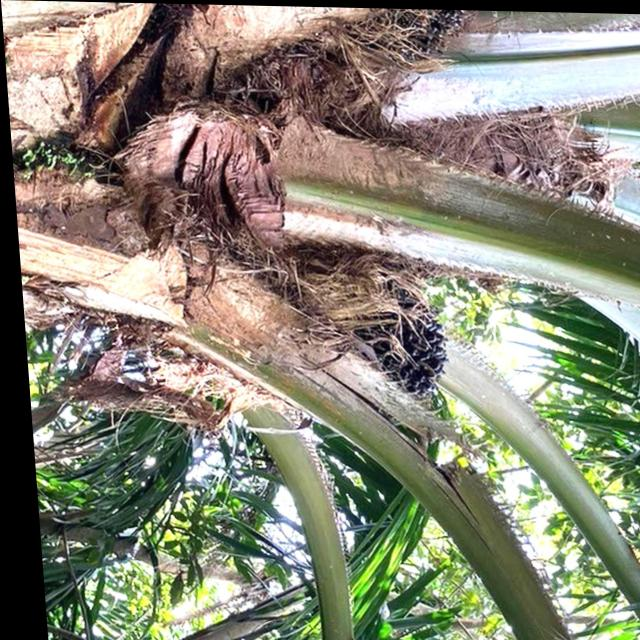unripe: (308, 258, 442, 400)
